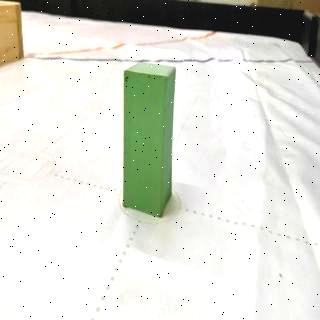greenbox: (121, 58, 177, 219)
